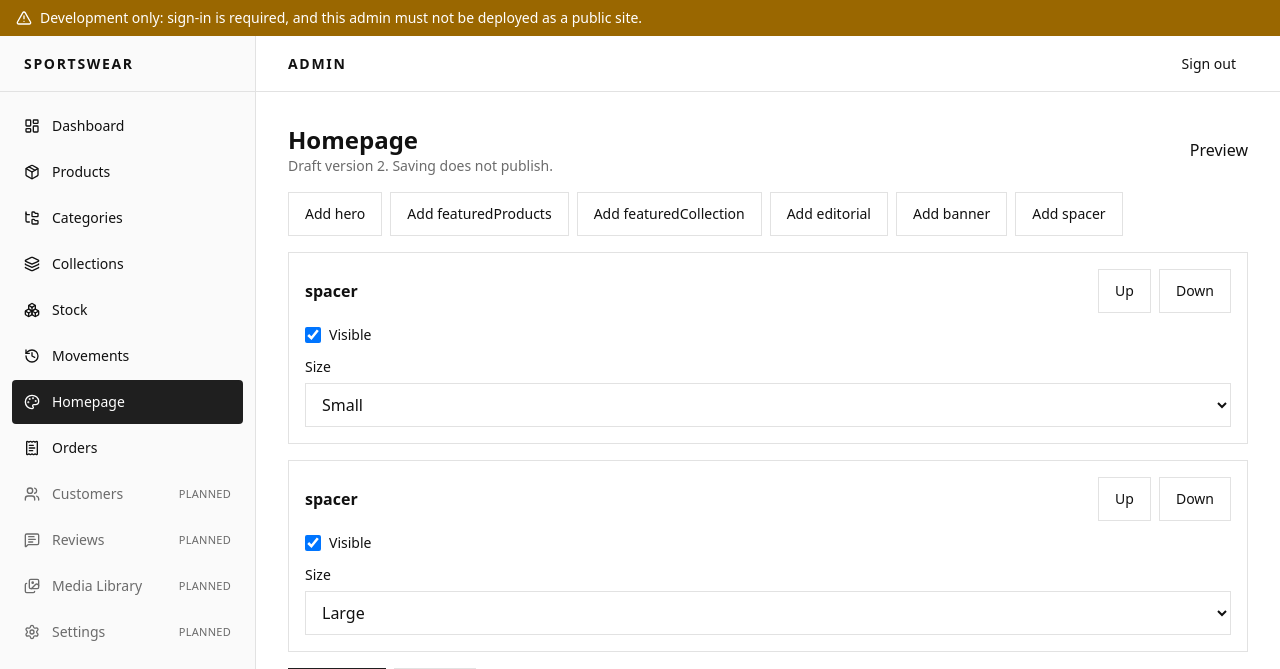
Test case: catalogue administration › asks before leaving a dirty homepage
This screenshot has width=1280, height=669.
Click the button "Add spacer" at (1069, 214), box [1015,192,1123,236]
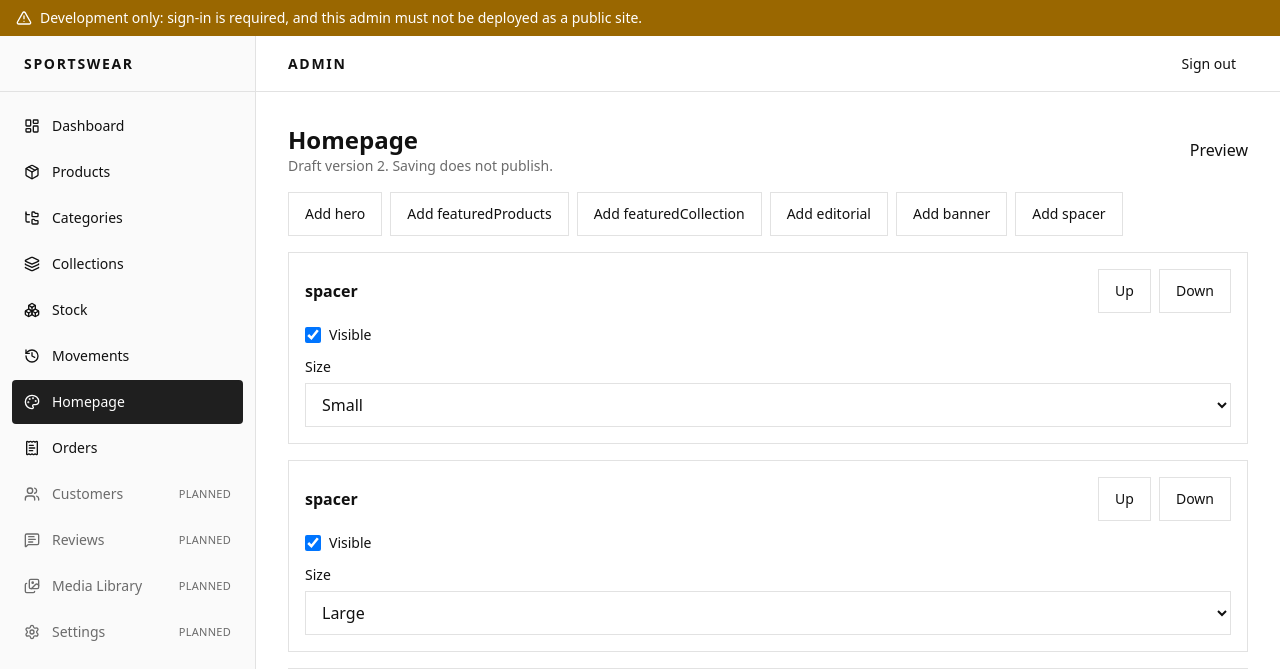
Click the link "Products" at (67, 172), box [24,162,110,181]
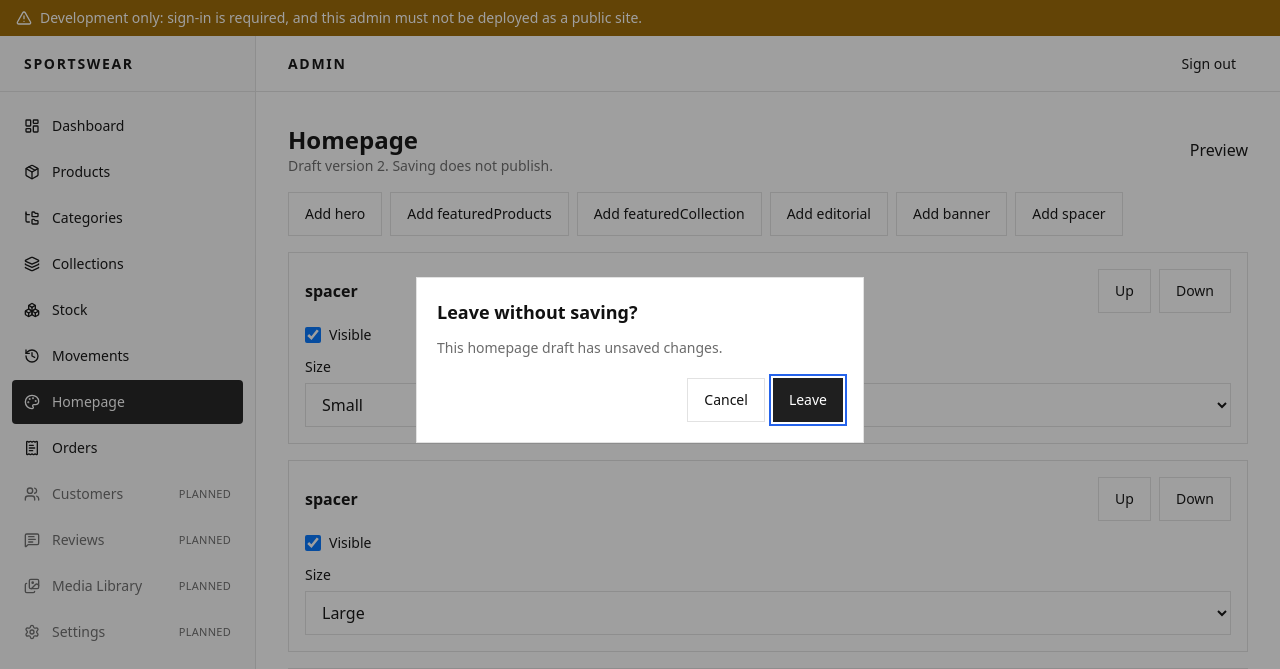
Expected: the dialog "Leave without saving?" is shown, [416,277,864,443]
